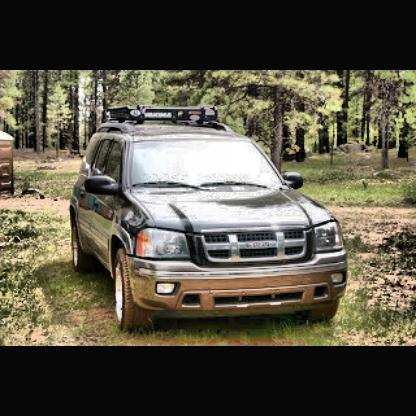Isuzu Ascender SUV 2008: (68, 106, 350, 342)
